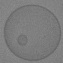small: (17, 34, 29, 46)
